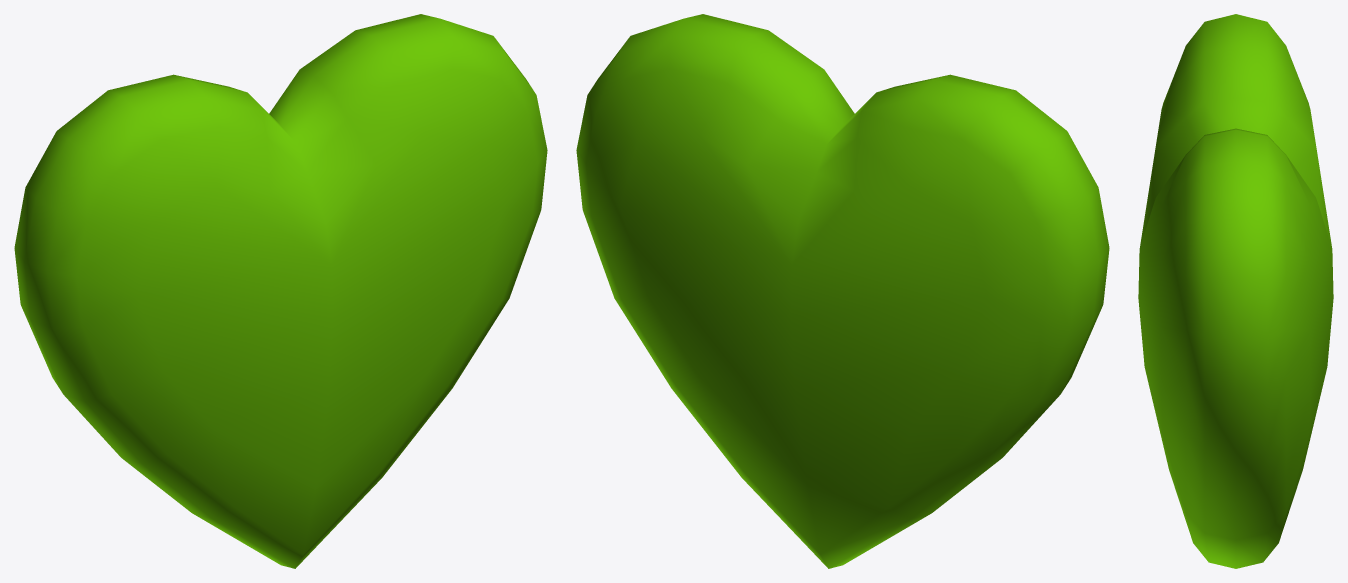
Rendered from HeartNight.glb.
The picture shows the model from 3 angles, left to right: view 1: azimuth 30°, elevation 25°; view 2: azimuth 150°, elevation 25°; view 3: azimuth 270°, elevation 25°; orthographic projection. The views are drawn at different scales.
Visible parts, largest first — view 1: HeartNight; view 2: HeartNight; view 3: HeartNight.
Part boxes in pixels (<box>): HeartNight: <box>14,14,547,568</box>; HeartNight: <box>576,14,1109,568</box>; HeartNight: <box>1138,14,1333,568</box>.
Size of the model in its own units: 0.4156 by 0.393 by 0.1445.
1 material, 1 textured.
